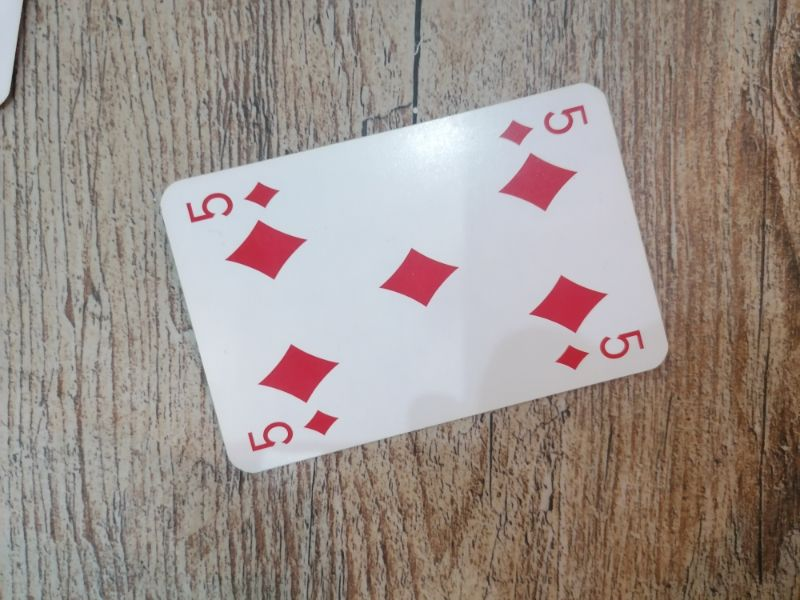5d: (180, 172, 290, 226), (495, 98, 594, 153), (550, 326, 649, 374), (246, 407, 342, 453)
